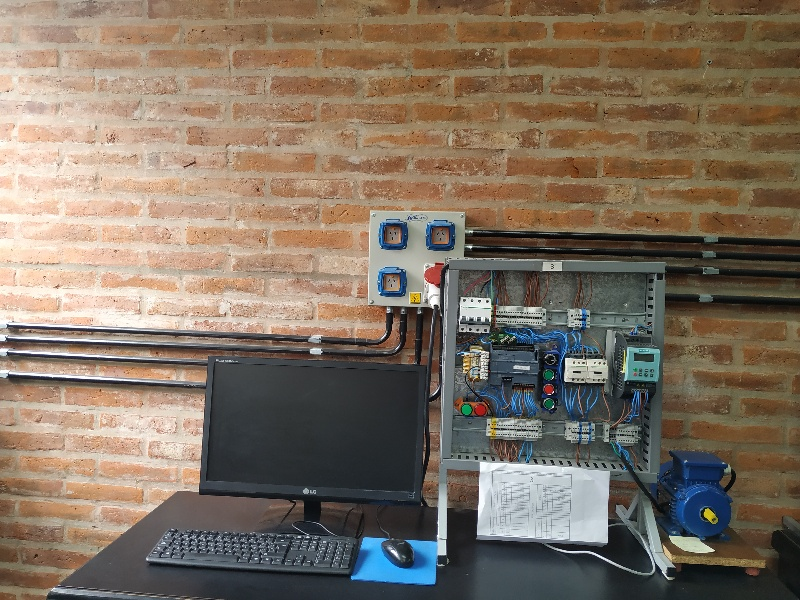Tablero 3: (452, 264, 663, 480)
